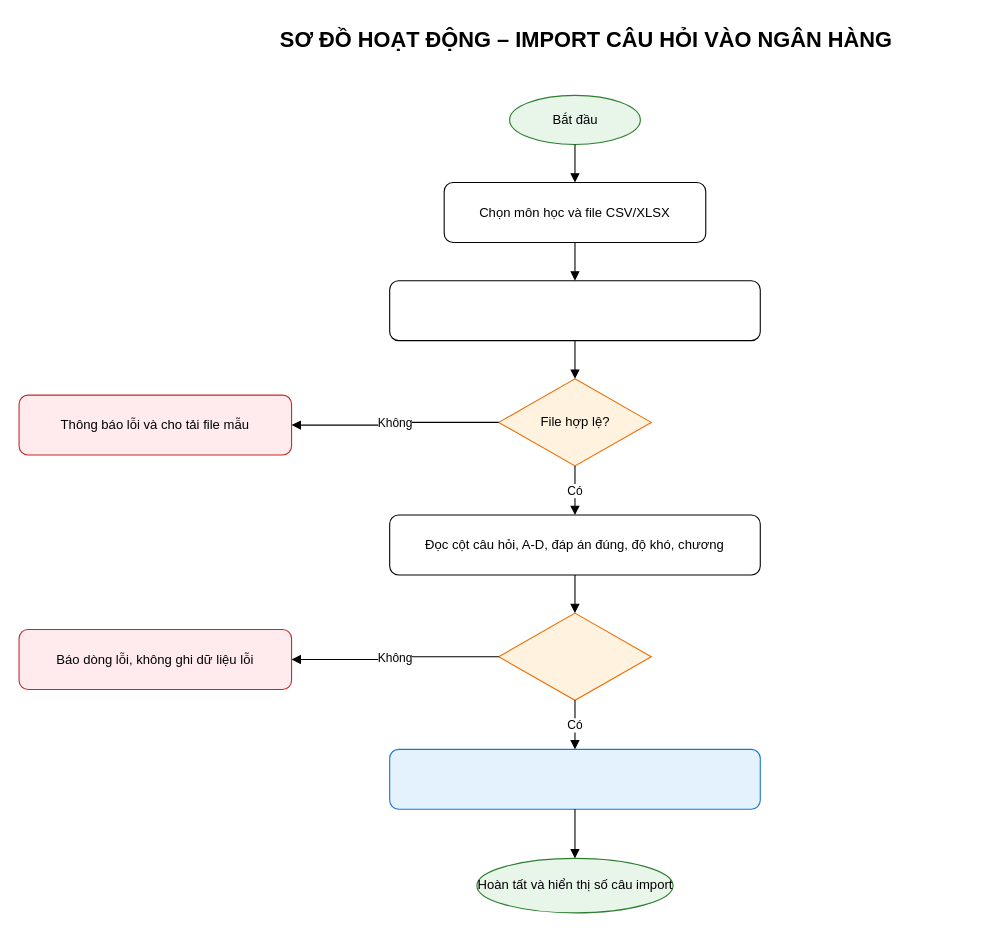
Some shapes in this 997 by 932 pixel diagram are drawn without their labels. Each missing label, with the box of its shape:
Kiểm tra phần mở rộng, dung lượng <= 50MB, số dòng: (389, 280, 760, 341)
Lưu QUESTIONS và ANSWERS vào ngân hàng: (389, 748, 760, 809)
Từng dòng hợp lệ?: (498, 612, 651, 700)
